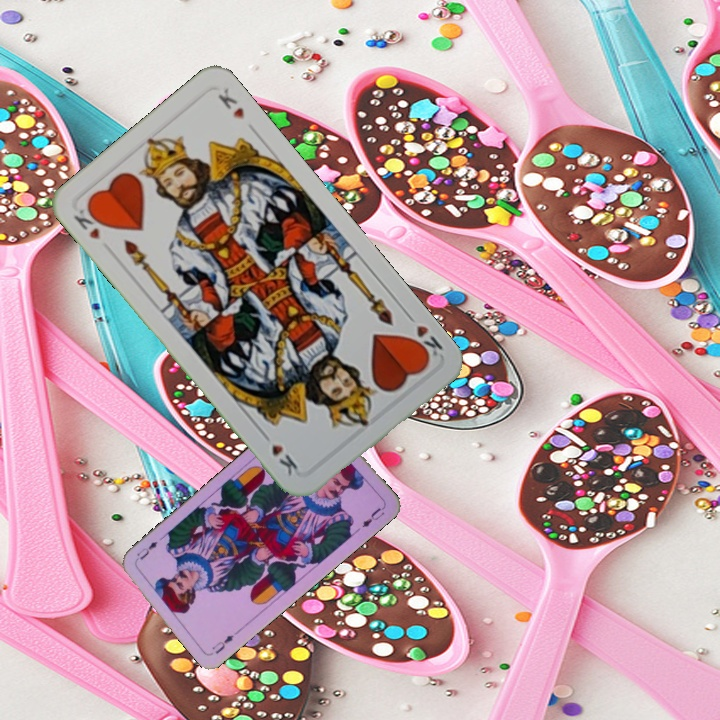EU: (208, 631, 236, 657)
HK: (405, 321, 446, 364), (69, 199, 107, 243)
